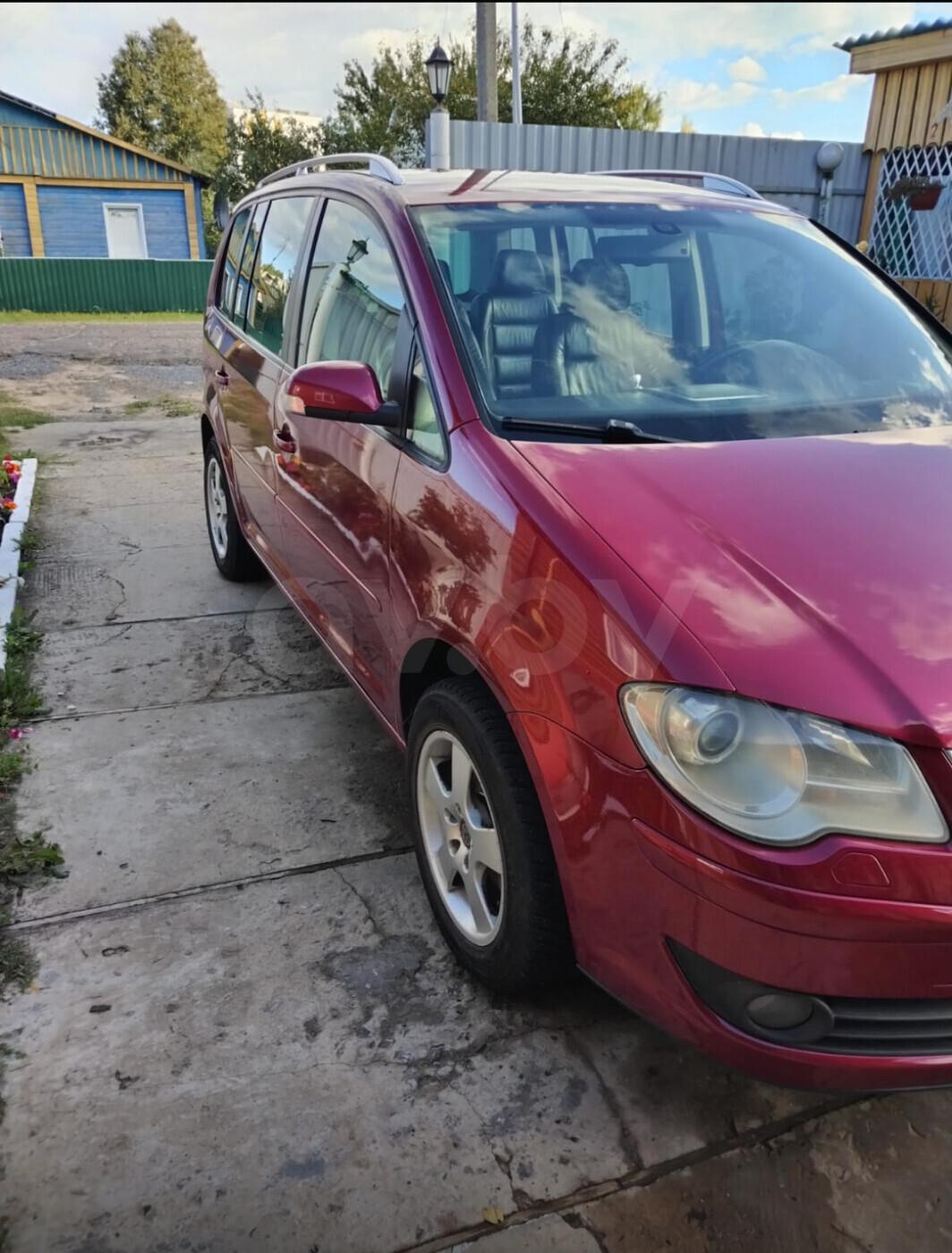Touran_2006-2010: (197, 154, 952, 1110)
